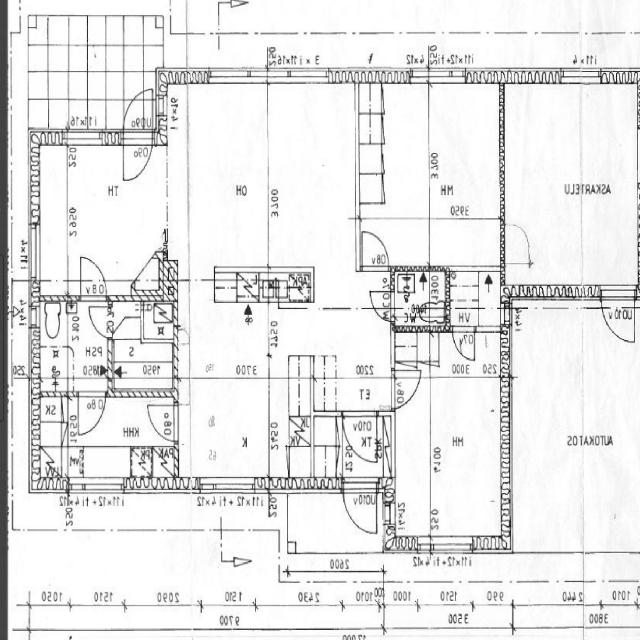door: (342, 477, 377, 540), (600, 284, 634, 344), (343, 410, 377, 464), (122, 87, 153, 146), (122, 130, 153, 188), (501, 224, 533, 262), (391, 370, 423, 408), (79, 391, 106, 435), (362, 229, 389, 272), (81, 260, 106, 301), (148, 406, 178, 440), (84, 306, 112, 338), (452, 326, 475, 363), (368, 291, 395, 321)
